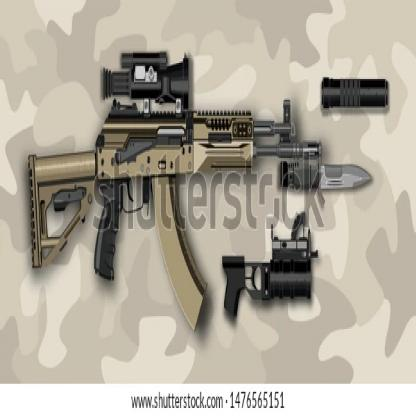Gun: (28, 48, 321, 333)
Knife: (280, 158, 372, 196)
Pistol: (221, 216, 319, 320)
